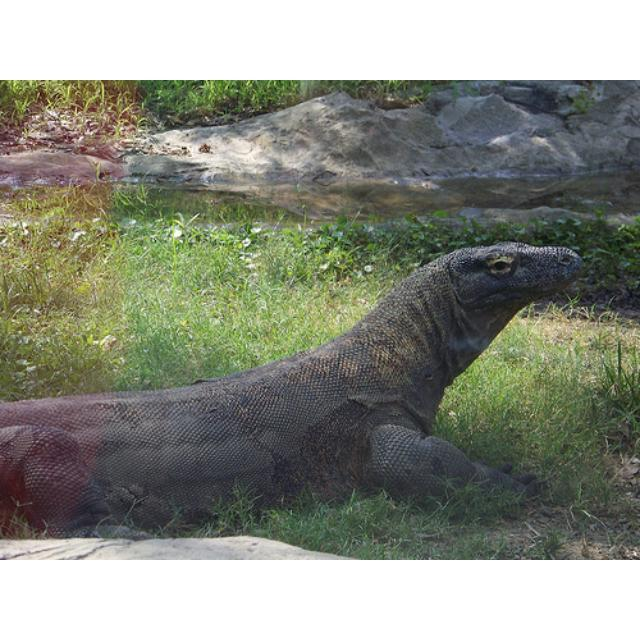KomodoDragon: (1, 238, 588, 541)
